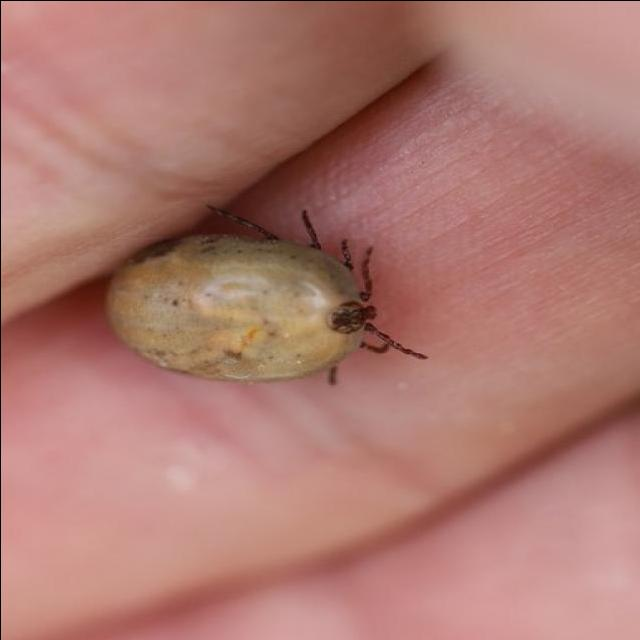Dermacentor Reticulatus-F-Fed: (104, 205, 428, 385)
